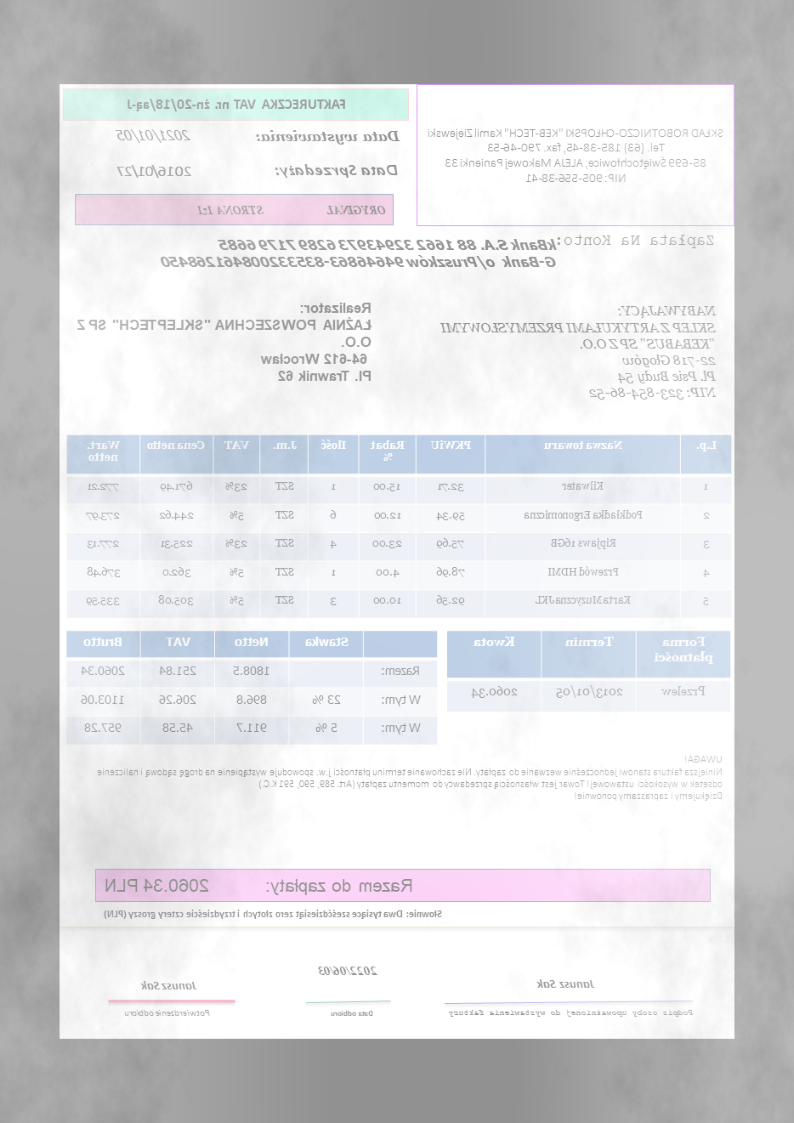Table: (65, 432, 734, 621), (64, 629, 439, 747), (447, 628, 732, 712)
TextBox: (94, 752, 724, 802), (437, 302, 718, 404), (72, 301, 375, 388), (424, 123, 726, 190), (157, 238, 558, 270), (104, 876, 415, 896), (100, 907, 445, 921), (125, 94, 349, 114), (256, 127, 402, 150), (194, 202, 388, 219), (555, 232, 717, 249), (447, 1008, 697, 1019), (273, 162, 402, 181), (114, 126, 192, 146), (116, 162, 194, 179), (535, 975, 598, 993), (315, 964, 380, 978), (122, 1008, 213, 1018), (139, 979, 200, 992), (327, 1008, 377, 1019)
